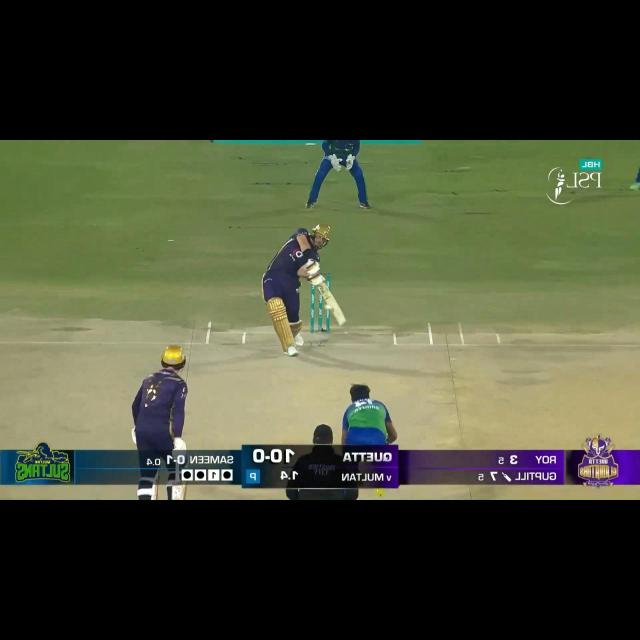bat: (318, 282, 348, 328), (169, 483, 188, 501)
toe: (336, 315, 348, 329), (170, 493, 187, 500)
